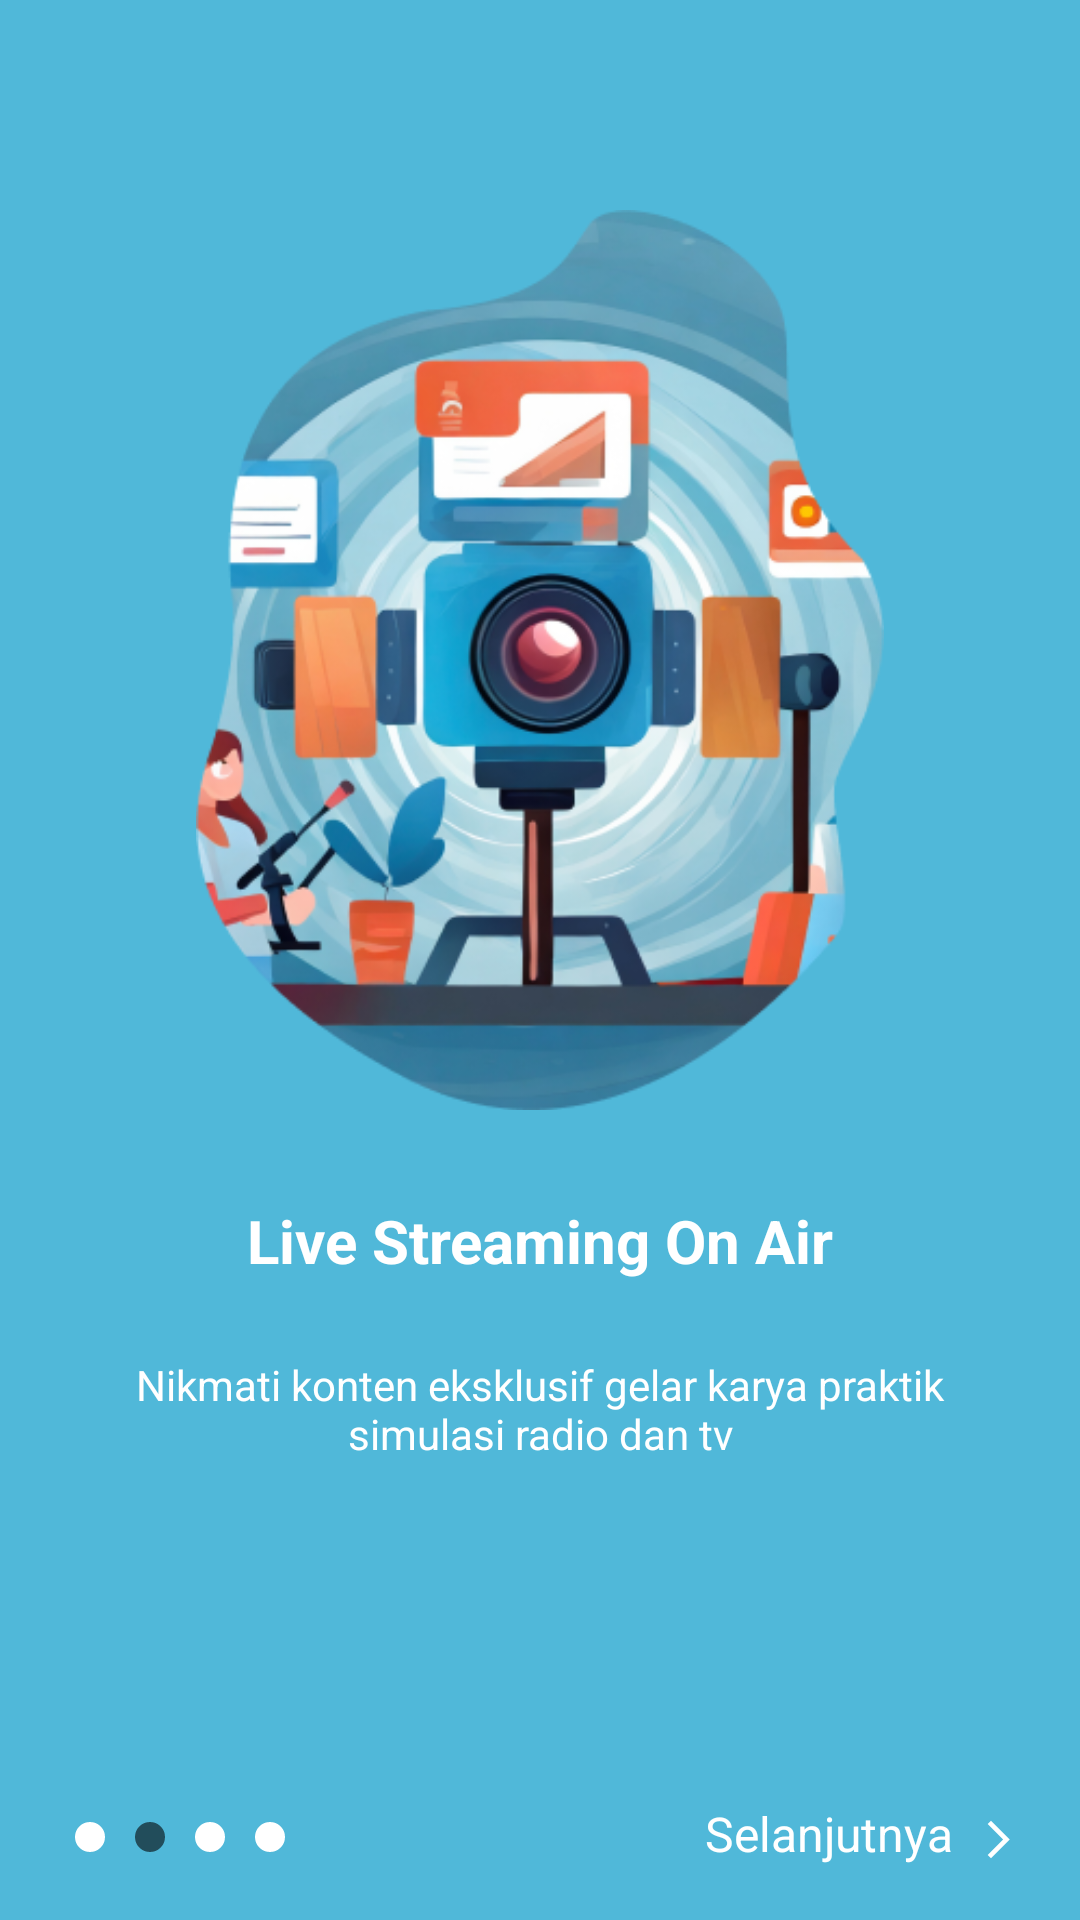

Icons on this 1080×1920 Android screen, each with its box as (x1, y1, x2, y2):
cont: (988, 1821, 1010, 1858)
